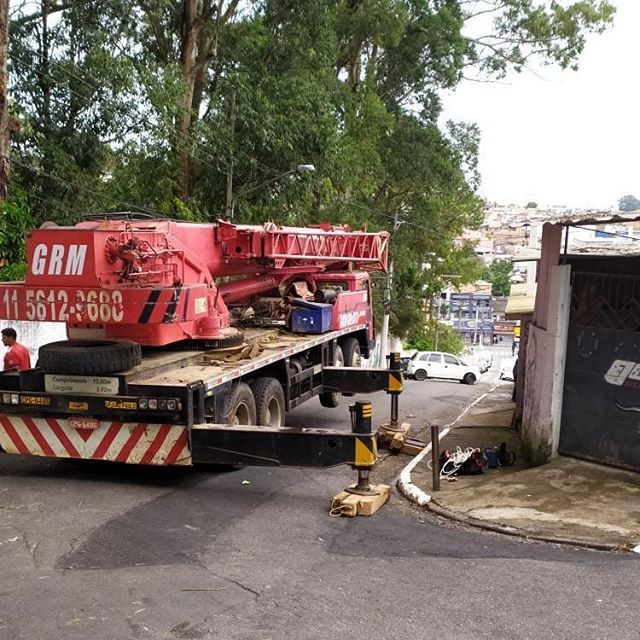car: (410, 346, 482, 385)
sky: (484, 1, 640, 194)
street: (1, 387, 468, 640)
truck: (1, 209, 398, 470)
vegetation: (1, 1, 466, 271)
